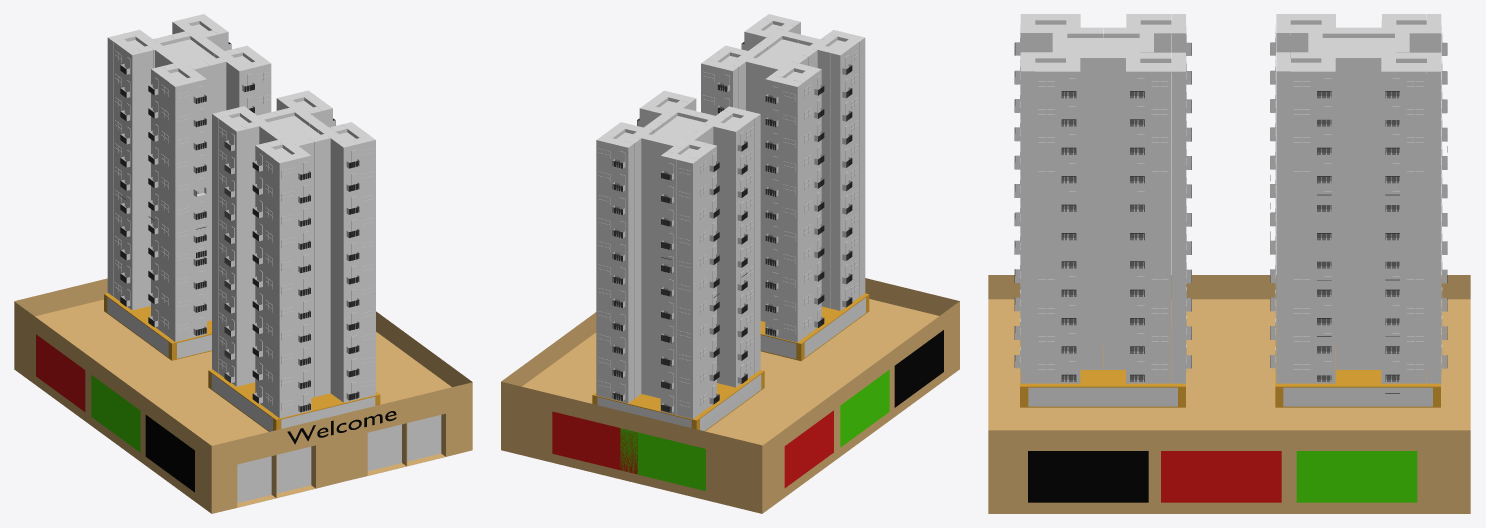
File: the fixed 4th building.fbx
3 renders of one model, left to right at view 1: azimuth 30°, elevation 25°; view 2: azimuth 150°, elevation 25°; view 3: azimuth 270°, elevation 25°, orthographic. The views are drawn at different scales.
Visible parts, largest first — view 1: Plane.167; view 2: Plane.167; view 3: Plane.167.
Part boxes in pixels (x1,y1,x2,y2): Plane.167: (14,14,472,513); Plane.167: (501,14,959,513); Plane.167: (988,14,1470,513).
Size of the model in its own units: 5103 by 5988 by 6682.
